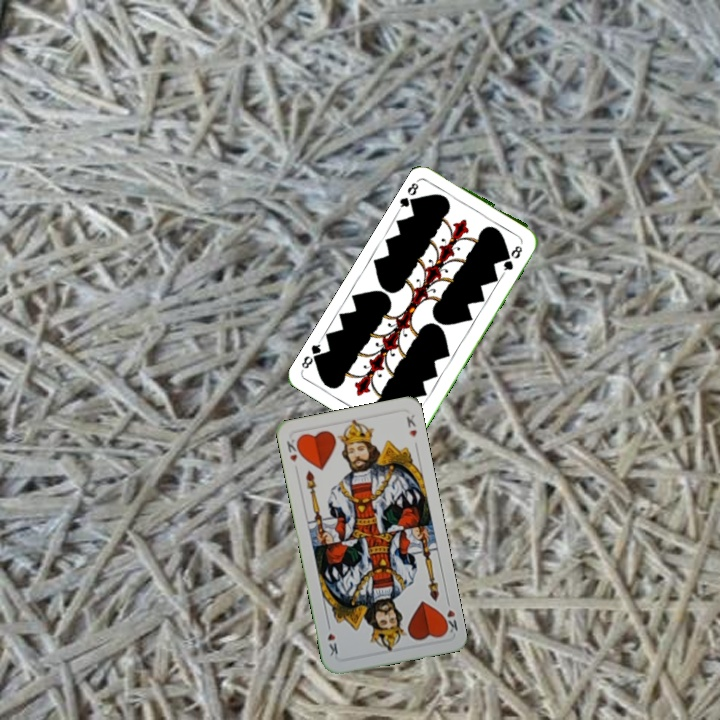G8: (395, 175, 422, 212)
HK: (438, 605, 460, 636), (283, 433, 304, 464)
